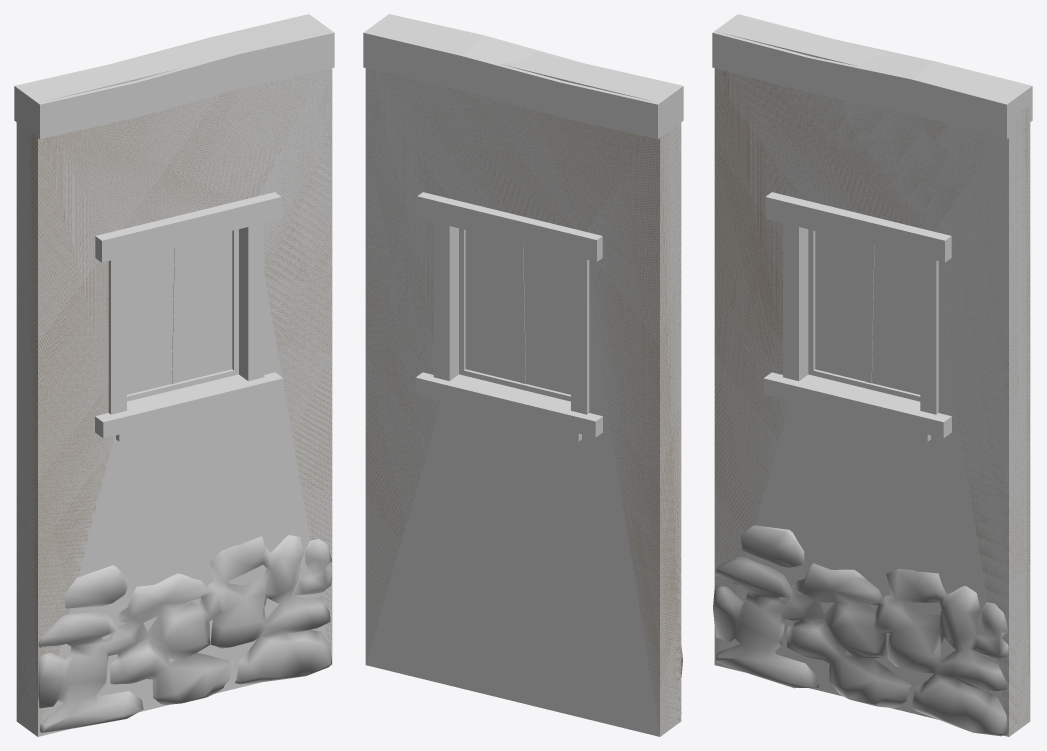
The model's file is Foundation_Window_1.fbx.
3 views of the same model, side by side, from view 1: azimuth 30°, elevation 25°; view 2: azimuth 150°, elevation 25°; view 3: azimuth 330°, elevation 25° (orthographic).
Parts seen in each view (by area): view 1: Foundation_Window_1_COL0, Foundation_Window_1_LOD0; view 2: Foundation_Window_1_COL0, Foundation_Window_1_LOD0; view 3: Foundation_Window_1_COL0, Foundation_Window_1_LOD0.
Part boxes in pixels (x1=…): Foundation_Window_1_COL0: x1=16, y1=47, x2=332, y2=736; Foundation_Window_1_LOD0: x1=14, y1=14, x2=334, y2=734; Foundation_Window_1_COL0: x1=365, y1=52, x2=681, y2=736; Foundation_Window_1_LOD0: x1=363, y1=14, x2=683, y2=735; Foundation_Window_1_COL0: x1=714, y1=15, x2=1030, y2=736; Foundation_Window_1_LOD0: x1=712, y1=14, x2=1032, y2=736.
Size of what is drawn, in the model's own units: 200 by 413 by 43.14.
